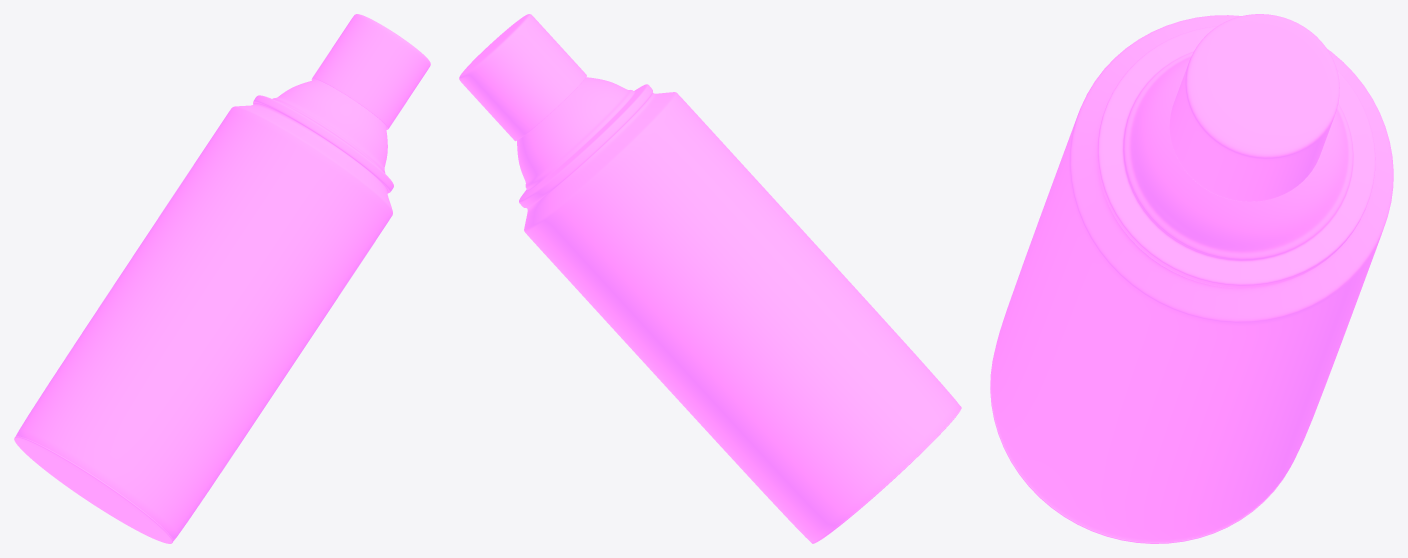
The picture shows the model from 3 angles, left to right: view 1: azimuth 30°, elevation 25°; view 2: azimuth 150°, elevation 25°; view 3: azimuth 270°, elevation 25°; orthographic projection. The views are drawn at different scales.
Parts seen in each view (by area): view 1: Cylinder.001; view 2: Cylinder.001; view 3: Cylinder.001.
Boxes of the visible parts, left/top/right/bottom form: Cylinder.001: left=14, top=14, right=430, bottom=543; Cylinder.001: left=459, top=14, right=961, bottom=543; Cylinder.001: left=990, top=14, right=1393, bottom=543.
Size of the model in its own units: 0.1578 by 0.1568 by 0.078.
